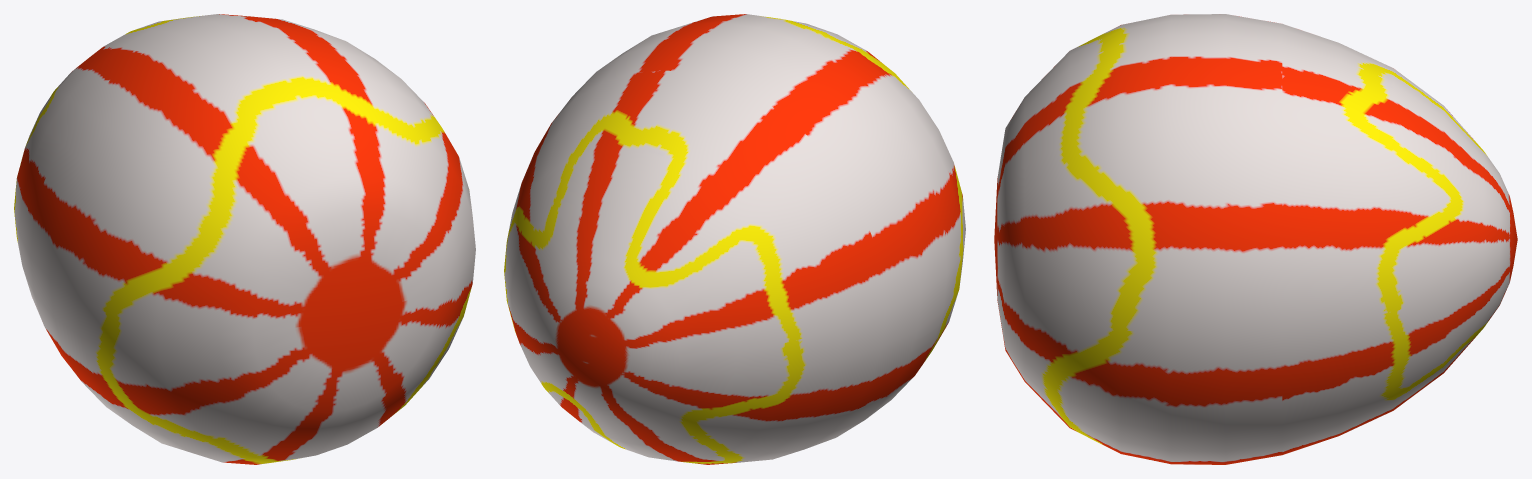
File: dinoEggRed.dae
3 views of the same model, side by side, from view 1: azimuth 30°, elevation 25°; view 2: azimuth 150°, elevation 25°; view 3: azimuth 270°, elevation 25° (orthographic). The views are drawn at different scales.
Visible parts, largest first — view 1: Egg; view 2: Egg; view 3: Egg.
Boxes of the visible parts, x1,y1,x2,y2 form: Egg: [14, 14, 475, 464]; Egg: [504, 14, 965, 464]; Egg: [994, 14, 1517, 464].
Size of the model in its own units: 1.55 by 1.8 by 1.55.
